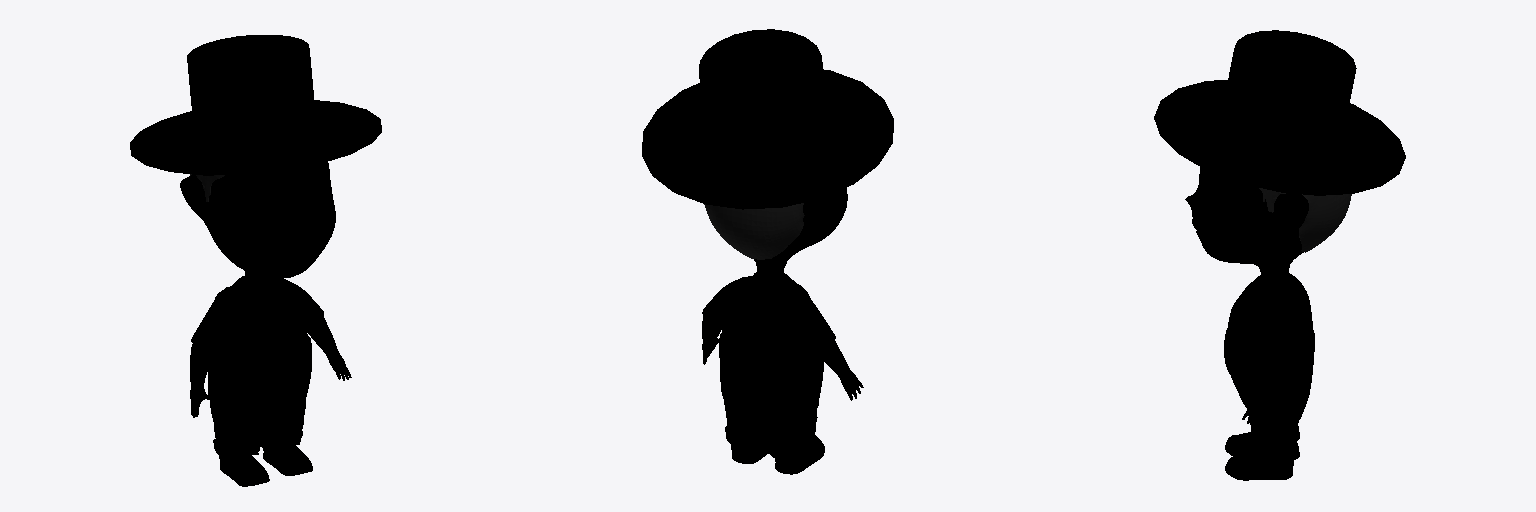
Rendered from boy.obj.
3 renders of one model, left to right at view 1: azimuth 30°, elevation 25°; view 2: azimuth 150°, elevation 25°; view 3: azimuth 270°, elevation 25°, orthographic.
Visible parts, largest first — view 1: Cartoon_Boy_hat_red, Cartoon_Boy_Body, Cartoon_Boy_jeans, Cartoon_Boy_T_shirt_in, Cartoon_Boy_cloth_01, Cartoon_Boy_R_eye, Cartoon_Boy_R_shoe_p1, Cartoon_Boy_L_shoe_p1, Cartoon_Boy_L_eye; view 2: Cartoon_Boy_hat_red, Cartoon_Boy_jeans, Cartoon_Boy_T_shirt_in, Cartoon_Boy_Body, Cartoon_Boy_Hairs, Cartoon_Boy_R_shoe_p1; view 3: Cartoon_Boy_hat_red, Cartoon_Boy_Body, Cartoon_Boy_jeans, Cartoon_Boy_T_shirt_in, Cartoon_Boy_Hairs, Cartoon_Boy_L_shoe_p1.
Boxes of the visible parts, x1=… form: Cartoon_Boy_hat_red: x1=130, y1=35, x2=381, y2=175; Cartoon_Boy_Body: x1=180, y1=162, x2=351, y2=417; Cartoon_Boy_jeans: x1=208, y1=278, x2=311, y2=449; Cartoon_Boy_T_shirt_in: x1=191, y1=276, x2=323, y2=359; Cartoon_Boy_cloth_01: x1=262, y1=346, x2=298, y2=390; Cartoon_Boy_R_eye: x1=241, y1=190, x2=279, y2=222; Cartoon_Boy_R_shoe_p1: x1=219, y1=455, x2=268, y2=482; Cartoon_Boy_L_shoe_p1: x1=263, y1=446, x2=312, y2=471; Cartoon_Boy_L_eye: x1=308, y1=175, x2=329, y2=208; Cartoon_Boy_hat_red: x1=642, y1=29, x2=893, y2=209; Cartoon_Boy_jeans: x1=719, y1=276, x2=823, y2=449; Cartoon_Boy_T_shirt_in: x1=702, y1=272, x2=835, y2=356; Cartoon_Boy_Body: x1=702, y1=188, x2=863, y2=400; Cartoon_Boy_Hairs: x1=704, y1=203, x2=804, y2=259; Cartoon_Boy_R_shoe_p1: x1=775, y1=435, x2=824, y2=468; Cartoon_Boy_hat_red: x1=1154, y1=30, x2=1405, y2=195; Cartoon_Boy_Body: x1=1185, y1=167, x2=1308, y2=426; Cartoon_Boy_jeans: x1=1227, y1=276, x2=1314, y2=453; Cartoon_Boy_T_shirt_in: x1=1233, y1=274, x2=1307, y2=364; Cartoon_Boy_Hairs: x1=1259, y1=188, x2=1351, y2=252; Cartoon_Boy_L_shoe_p1: x1=1226, y1=453, x2=1293, y2=474.
Size of the model in its own units: 51.05 by 91.58 by 50.35.